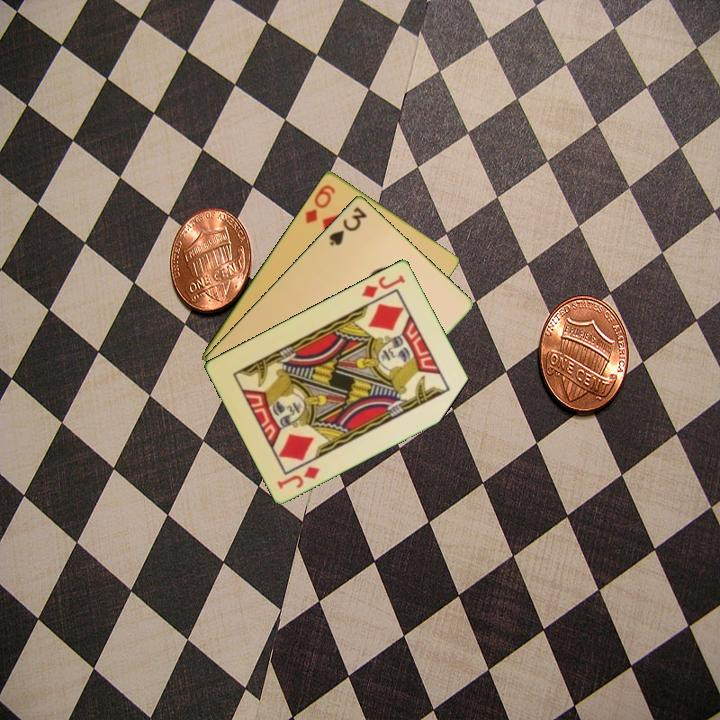3s: (326, 203, 370, 248)
6d: (301, 181, 338, 226)
Jd: (273, 462, 323, 492), (358, 271, 408, 300)
